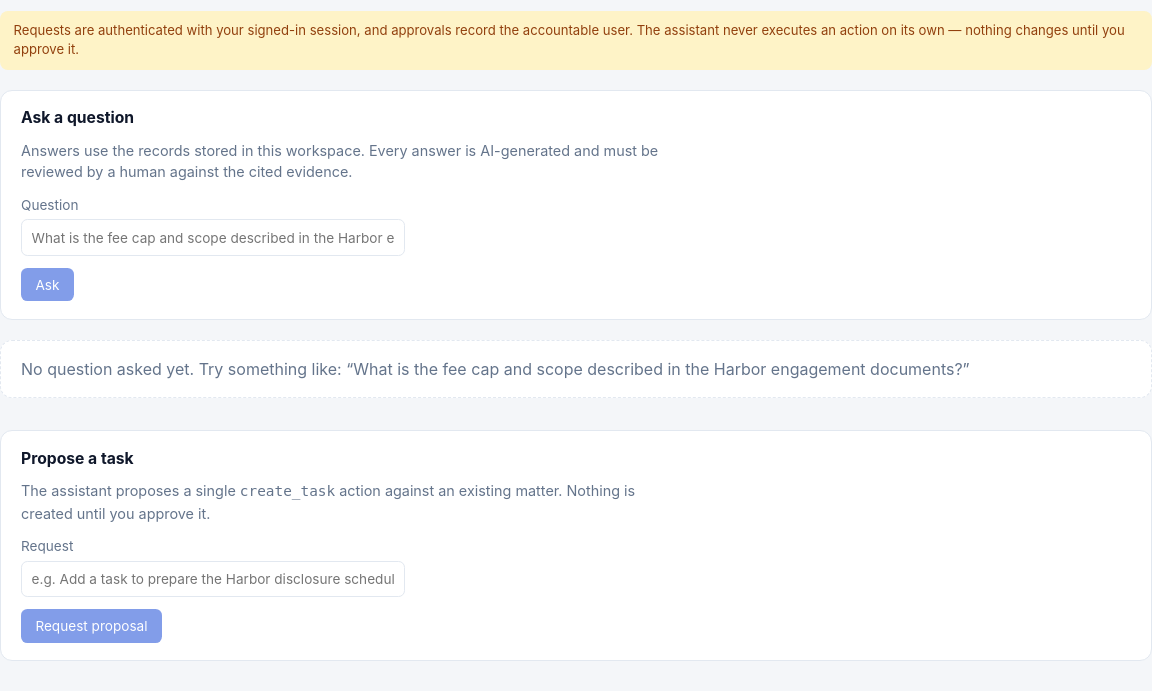
Test: AssistantPage › prevents duplicate clicks while an approval is in flight
Type "Add a task for Harbor" into the field labelled "Request" at (213, 579), box x1=21 y1=561 x2=405 y2=598
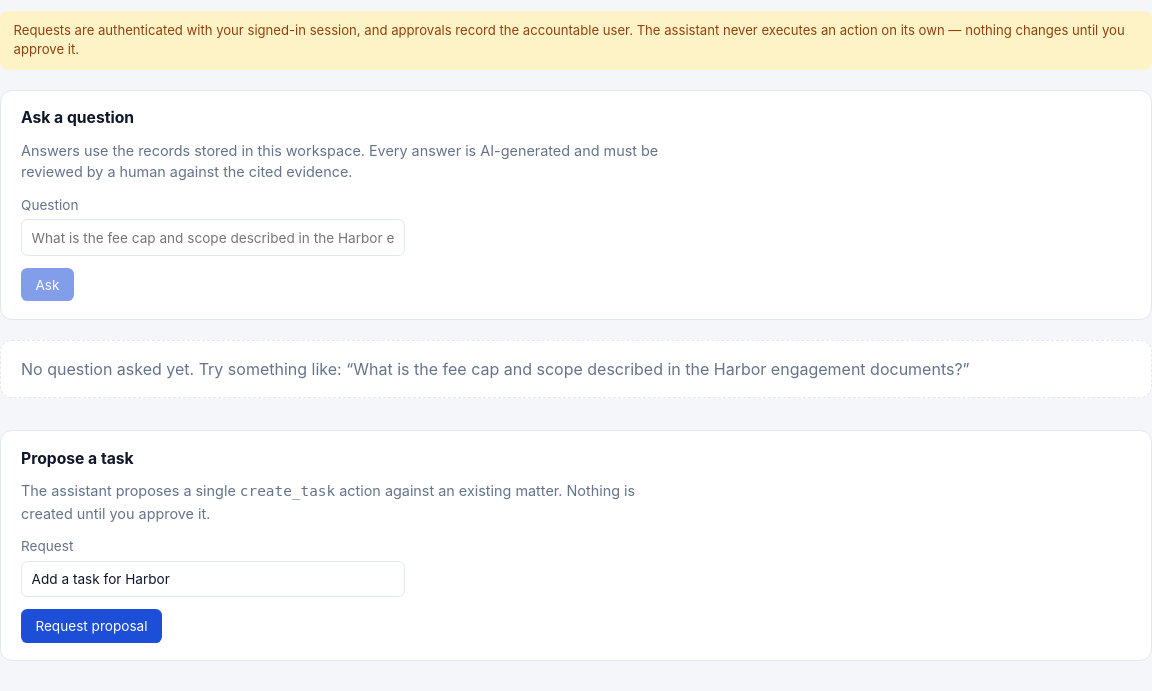
Click the button "Request proposal" at (91, 626), box x1=21 y1=610 x2=162 y2=643
(page scrolled)
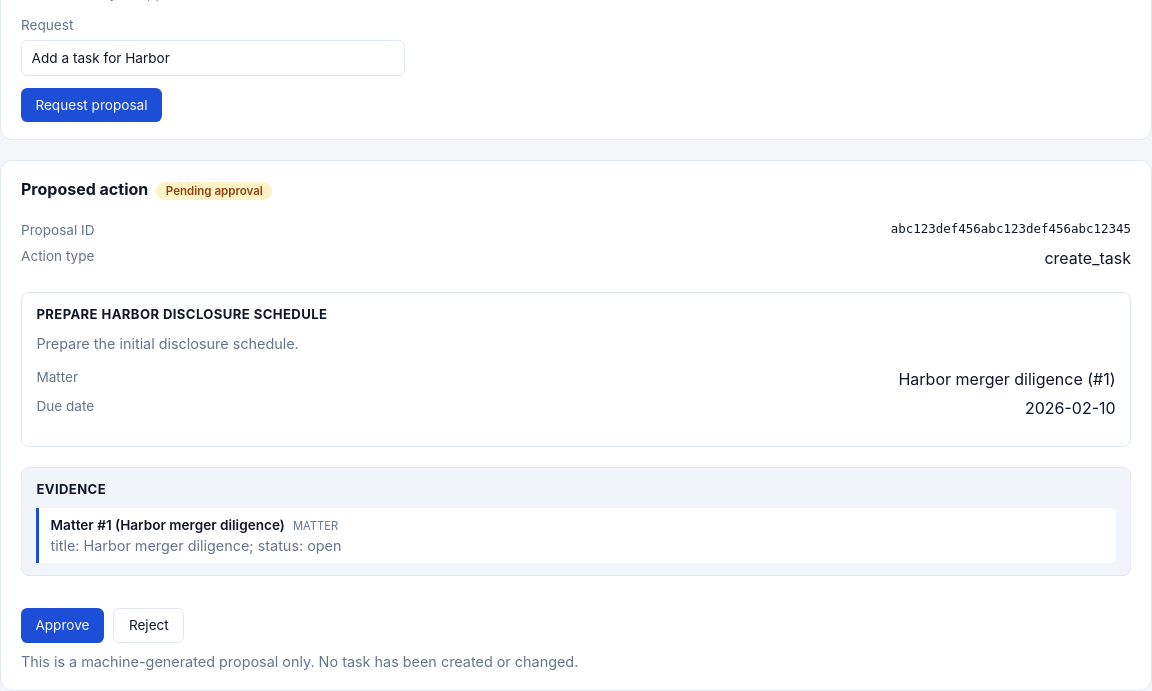
Expected: the heading "Prepare Harbor disclosure schedule" is shown, x1=36 y1=306 x2=327 y2=322
Click the button "Approve" at (62, 626), box x1=21 y1=608 x2=104 y2=643
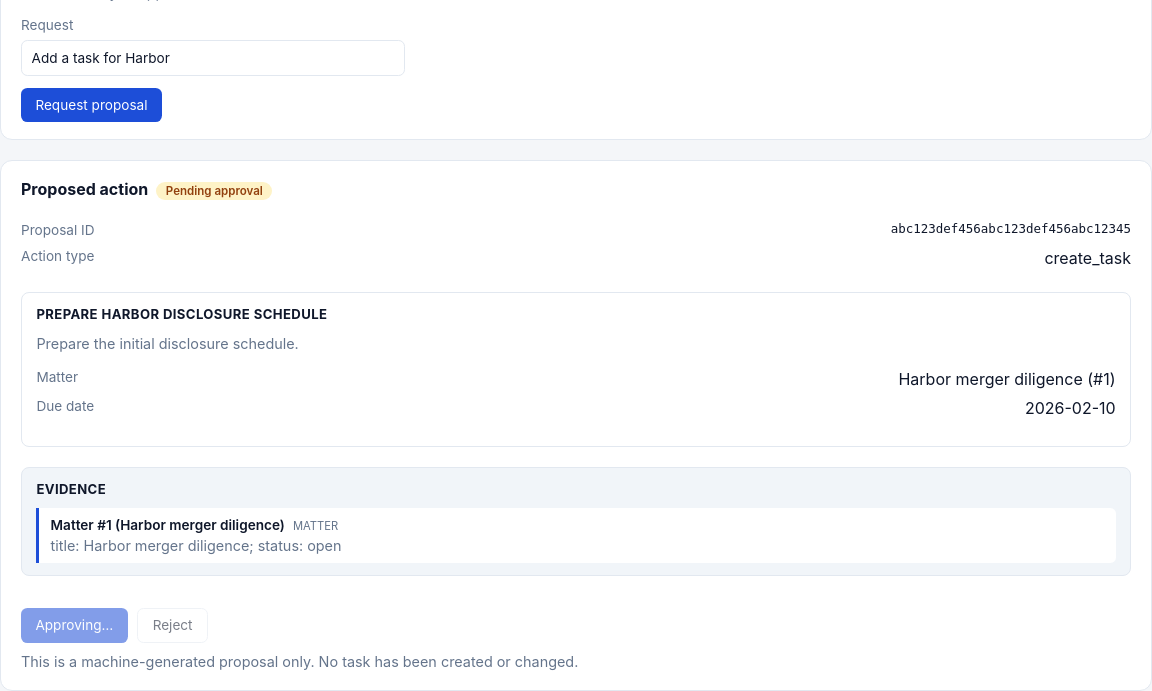
Click the button named "Approve" at (74, 626), box x1=21 y1=608 x2=128 y2=643
(page scrolled)
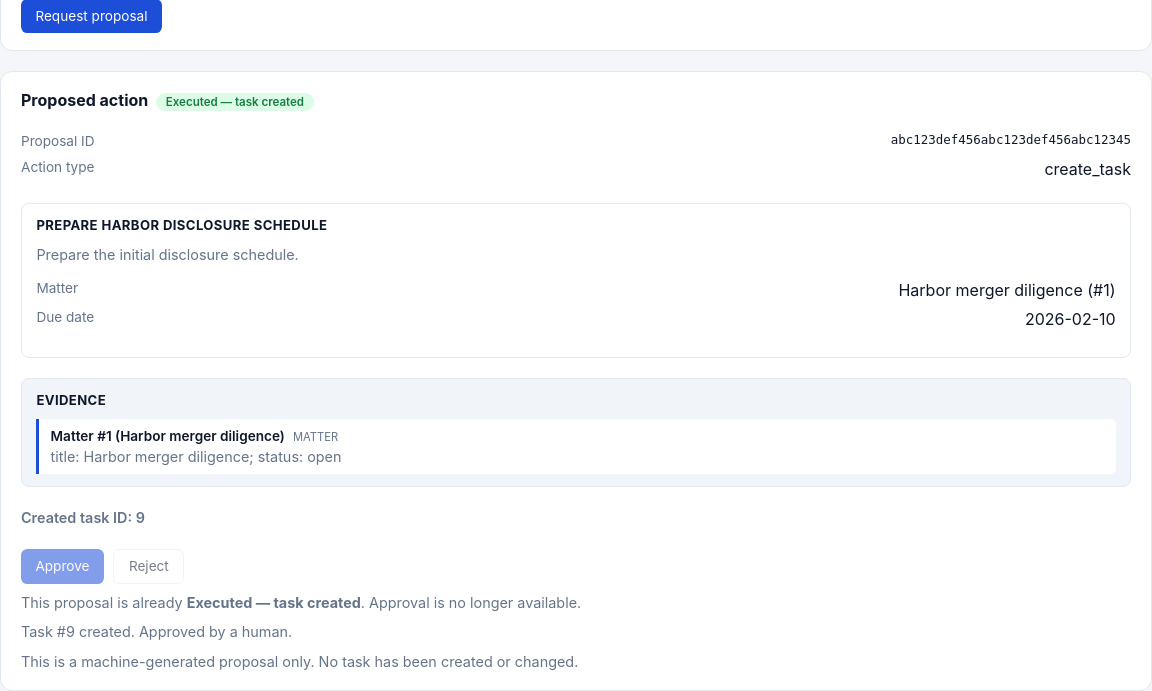
Expected: the button named "Approving" is disabled, x1=21 y1=549 x2=104 y2=584
Expected: the text "Task #9 created. Approved by a human." is shown, x1=21 y1=623 x2=292 y2=640
